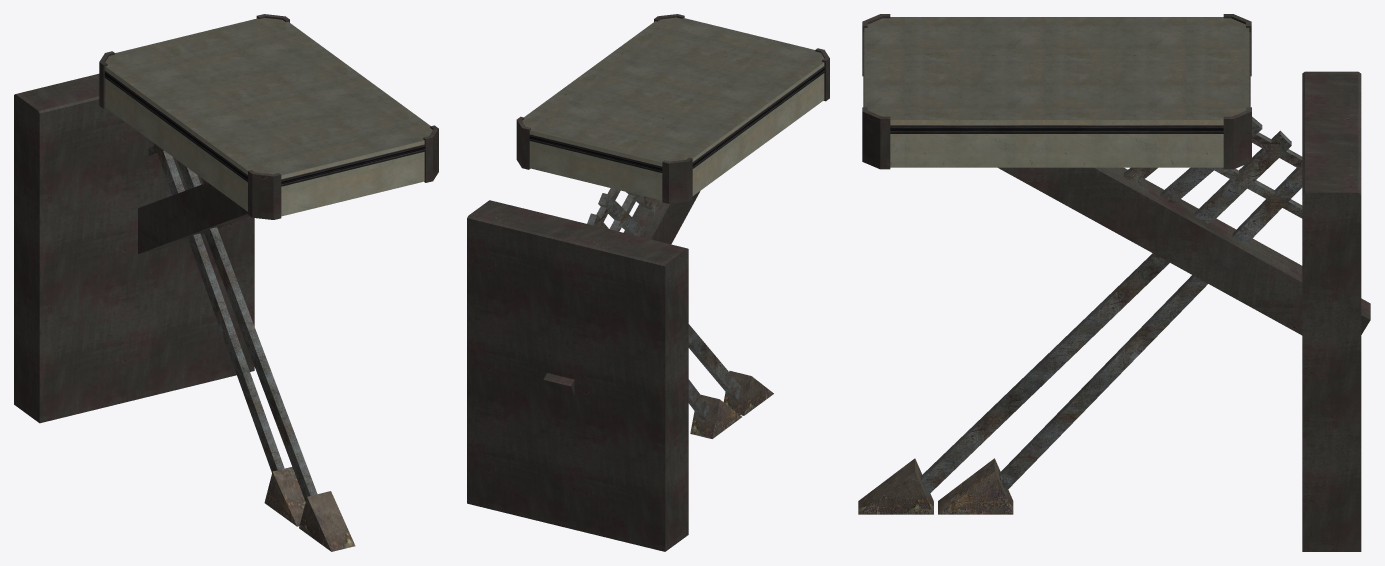
Rendered from endcap2.fbx.
The picture shows the model from 3 angles, left to right: view 1: azimuth 30°, elevation 25°; view 2: azimuth 150°, elevation 25°; view 3: azimuth 270°, elevation 25°; orthographic projection. The views are drawn at different scales.
Parts seen in each view (by area): view 1: Object; view 2: Object; view 3: Object.
Boxes of the visible parts, bbox=[...] form: Object: bbox=[14, 14, 438, 551]; Object: bbox=[467, 14, 829, 551]; Object: bbox=[858, 14, 1370, 551].
Bounding box in the file's own units: 3281 × 5609 × 5813.
